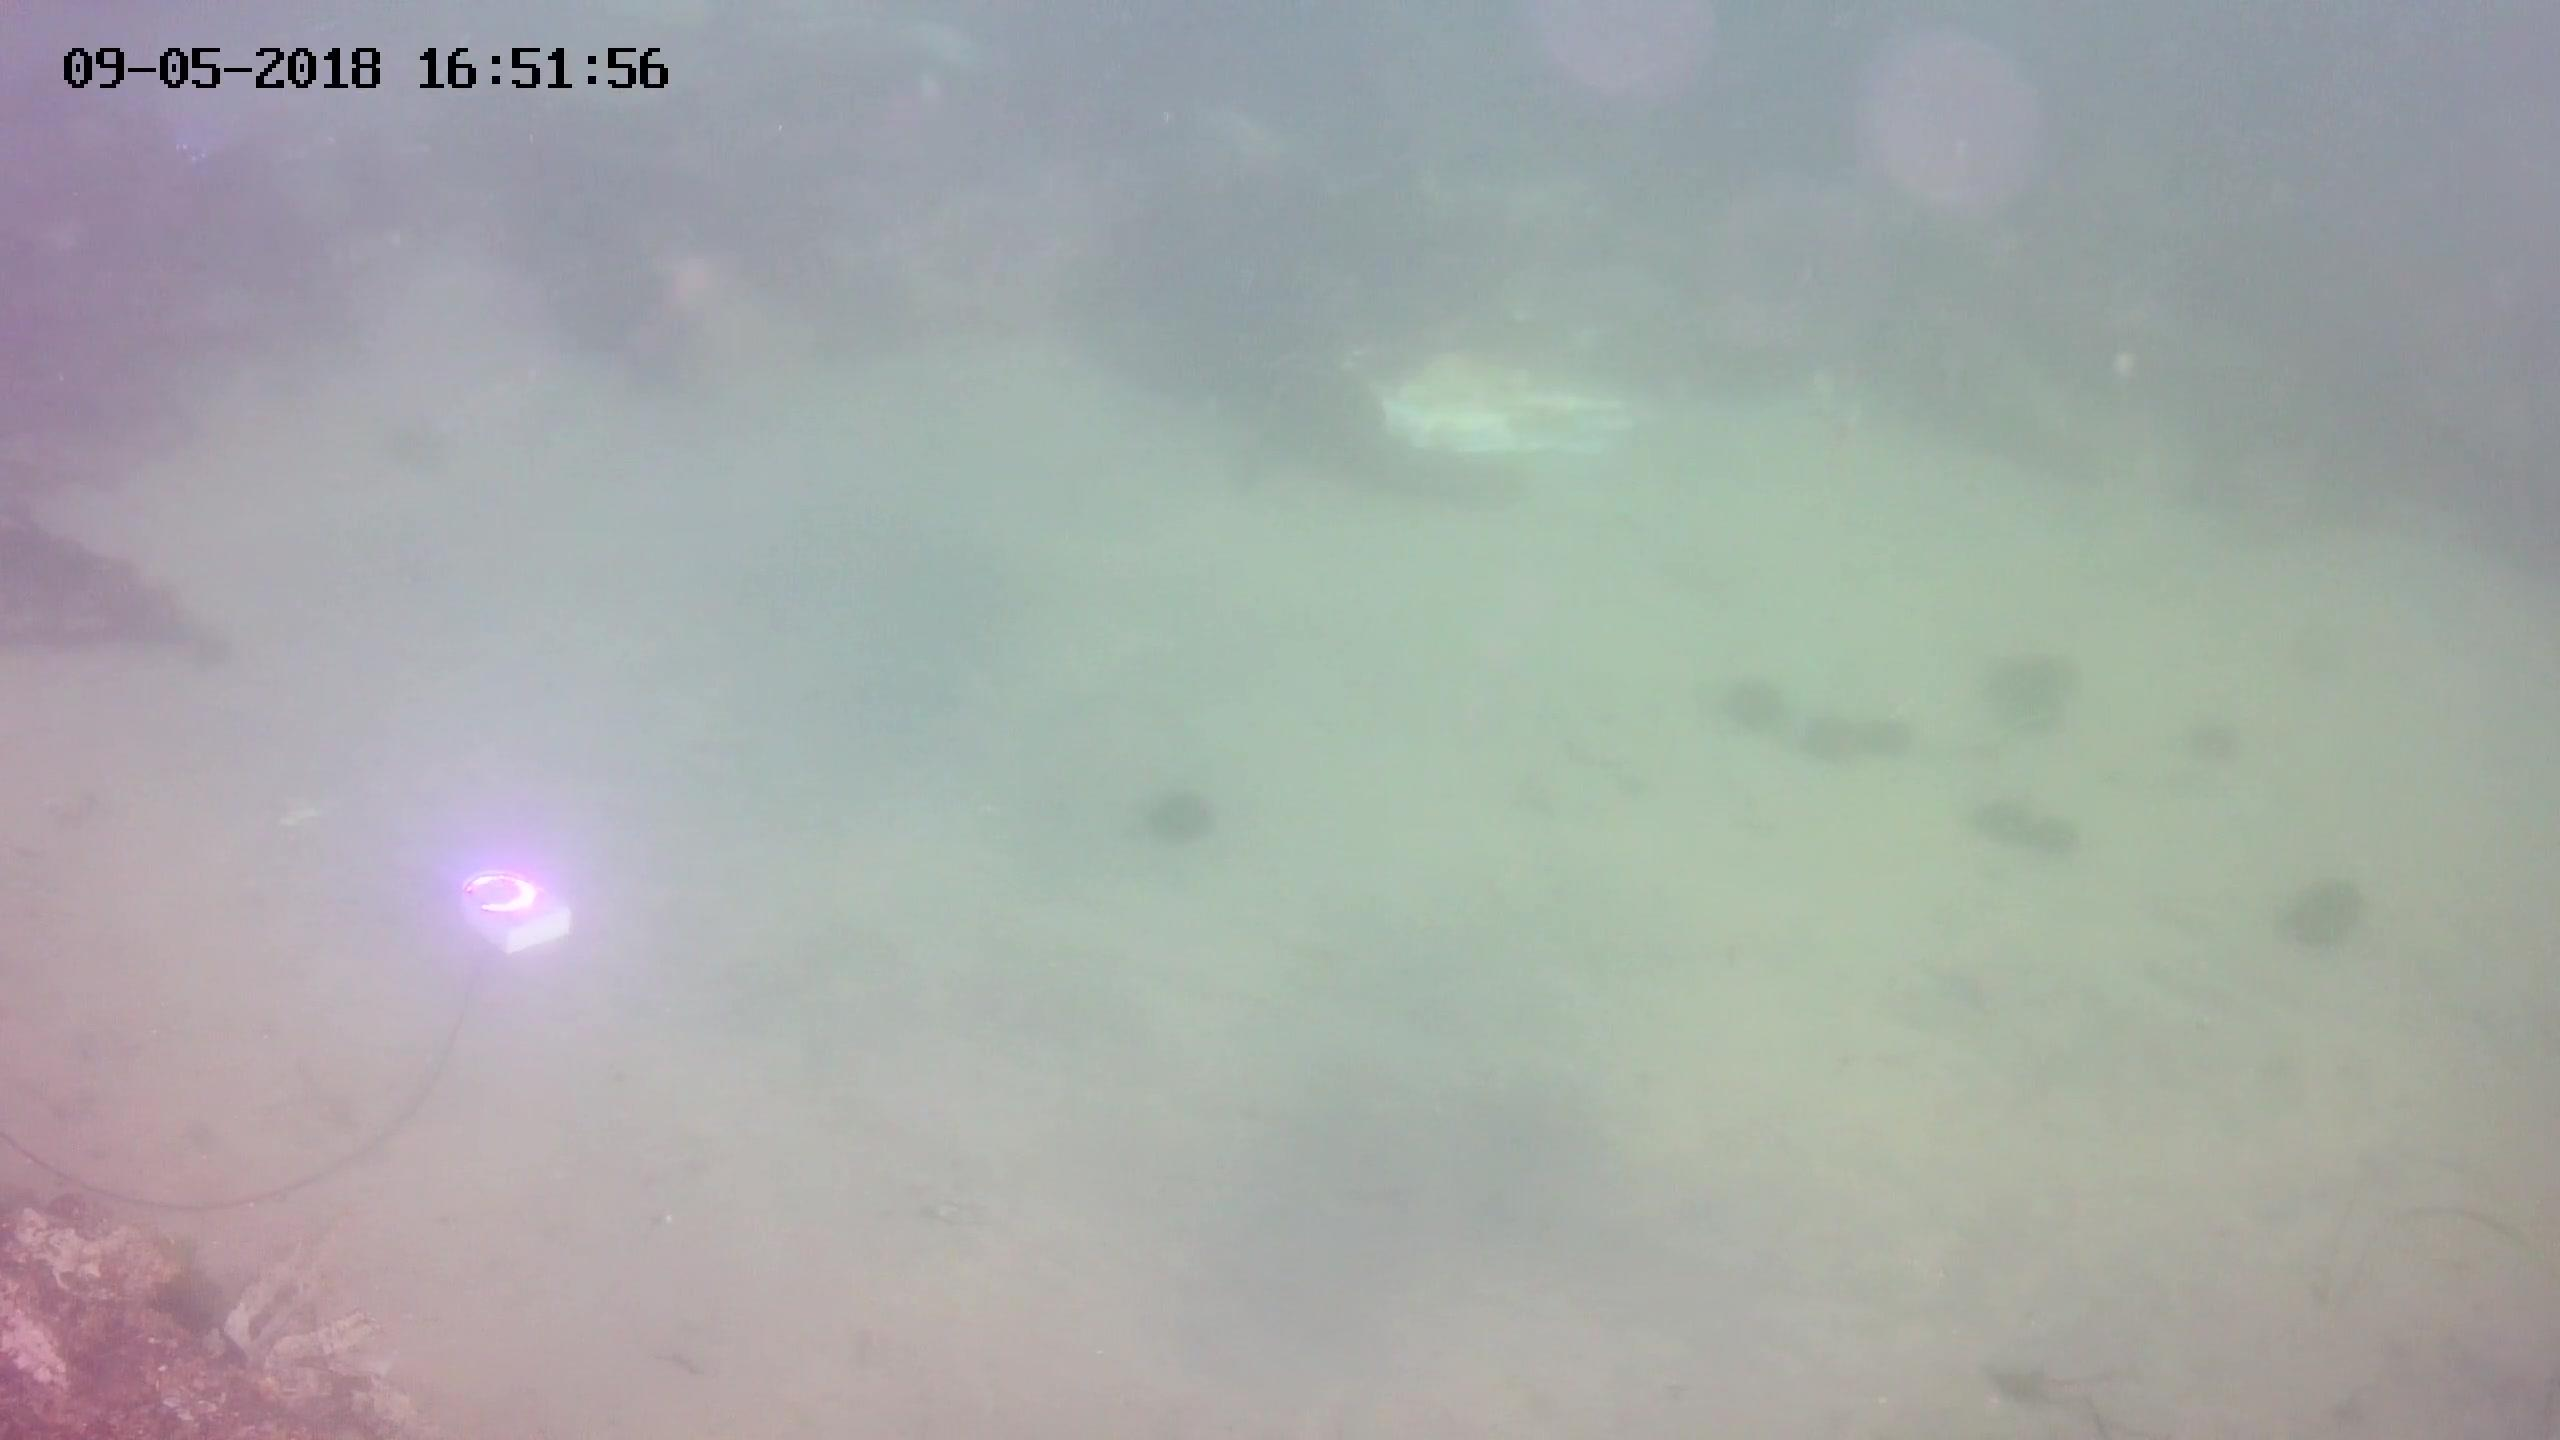echinus: (1985, 649, 2062, 716), (2287, 877, 2360, 944), (1725, 673, 1788, 735), (1150, 789, 1210, 846), (1804, 709, 1857, 772), (2185, 721, 2240, 772), (1978, 789, 2029, 842), (2033, 807, 2078, 860), (1864, 712, 1906, 761)
